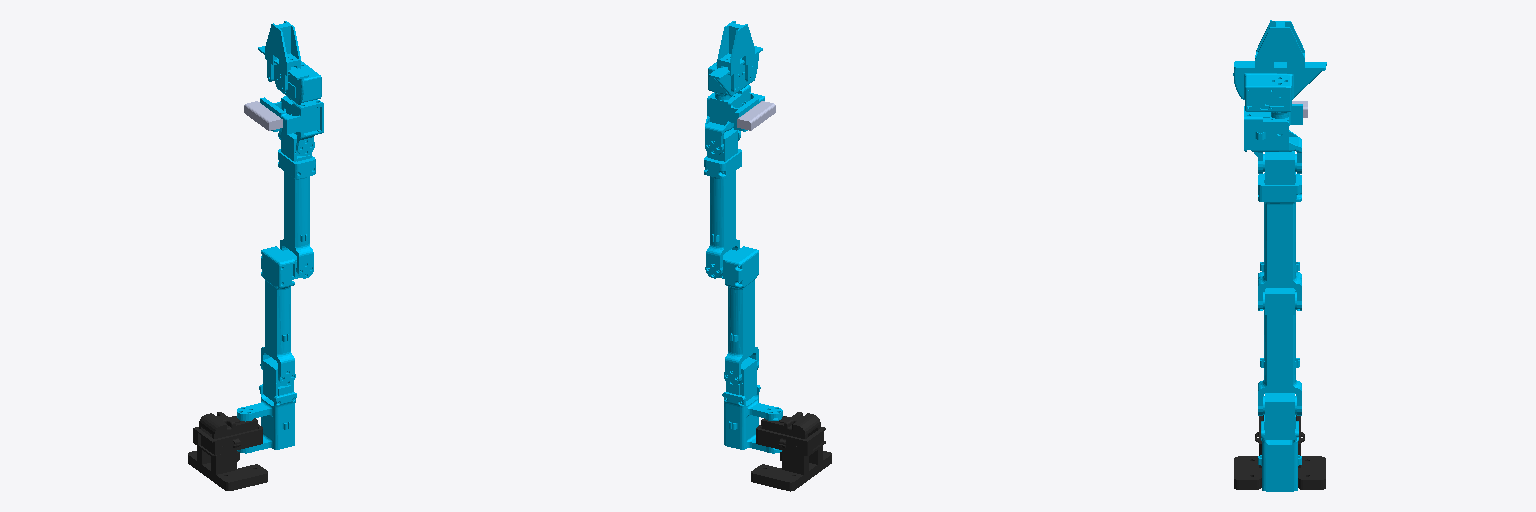
The robot description file, URDF, robot "star_arm":
<?xml version="1.0" encoding="utf-8"?>
<!-- This URDF was automatically created by SolidWorks to URDF Exporter! Originally created by Stephen Brawner (brawner@gmail.com) 
     Commit Version: 1.6.0-4-g7f85cfe  Build Version: 1.6.7995.38578
     For more information, please see http://wiki.ros.org/sw_urdf_exporter -->
<robot name="star_arm">
  <material name="base_gray">
    <color rgba="0.2 0.2 0.2 1" />
  </material>
  <material name="arm_cyan">
    <color rgba="0.0 0.8 1.0 1" />
  </material>
  <link
    name="base_link">
    <inertial>
      <origin
        xyz="0.0275864586435609 9.16647477805559E-05 0.0324590456139455"
        rpy="0 0 0" />
      <mass
        value="0.144504554281563" />
      <inertia
        ixx="0.000121778576211421"
        ixy="4.84539490144028E-07"
        ixz="1.008250680684E-05"
        iyy="8.91115266351561E-05"
        iyz="-3.49729533338273E-12"
        izz="0.000111457566341753" />
    </inertial>
    <visual>
      <origin
        xyz="0 0 0"
        rpy="0 0 0" />
      <geometry>
        <mesh
          filename="package://star_arm/meshes/base_link.STL" />
      </geometry>
      <material
        name="base_gray">
        <color
          rgba="0.2 0.2 0.2 1" />
      </material>
    </visual>
    <collision>
      <origin
        xyz="0 0 0"
        rpy="0 0 0" />
      <geometry>
        <mesh
          filename="package://star_arm/meshes/base_link.STL" />
      </geometry>
    </collision>
  </link>
  <link
    name="link1">
    <inertial>
      <origin
        xyz="1.3453252855906E-05 0.0413059005151624 -0.0368213823397828"
        rpy="0 0 0" />
      <mass
        value="0.119500015084103" />
      <inertia
        ixx="5.33919609666398E-05"
        ixy="-5.49525330310466E-08"
        ixz="-1.15729775390099E-07"
        iyy="4.7549033361238E-05"
        iyz="1.19946244949578E-06"
        izz="3.30906436971184E-05" />
    </inertial>
    <visual>
      <origin
        xyz="0 0 0"
        rpy="0 0 0" />
      <geometry>
        <mesh
          filename="package://star_arm/meshes/link1.STL" />
      </geometry>
      <material
        name="arm_cyan">
        <color
          rgba="0.0 0.8 1.0 1" />
      </material>
    </visual>
    <collision>
      <origin
        xyz="0 0 0"
        rpy="0 0 0" />
      <geometry>
        <mesh
          filename="package://star_arm/meshes/link1.STL" />
      </geometry>
    </collision>
  </link>
  <joint
    name="joint1"
    type="revolute">
    <origin
      xyz="0.0552 0 0.03275"
      rpy="-3.1416 0 1.5708" />
    <parent
      link="base_link" />
    <child
      link="link1" />
    <axis
      xyz="0 0 -1" />
    <limit
      lower="-1.60"
      upper="1.60"
      effort="100"
      velocity="1" />
  </joint>
  <link
    name="link2">
    <inertial>
      <origin
        xyz="-0.00335921384804032 0.0945816679704448 0.0174068208732643"
        rpy="0 0 0" />
      <mass
        value="0.130914564240808" />
      <inertia
        ixx="0.00018510366056365"
        ixy="-2.57165620985463E-06"
        ixz="1.62336294405518E-07"
        iyy="2.69950008420773E-05"
        iyz="-8.45473246439525E-07"
        izz="0.00017706366922862" />
    </inertial>
    <visual>
      <origin
        xyz="0 0 0"
        rpy="0 0 0" />
      <geometry>
        <mesh
          filename="package://star_arm/meshes/link2.STL" />
      </geometry>
      <material
        name="arm_cyan">
        <color
          rgba="0.0 0.8 1.0 1" />
      </material>
    </visual>
    <collision>
      <origin
        xyz="0 0 0"
        rpy="0 0 0" />
      <geometry>
        <mesh
          filename="package://star_arm/meshes/link2.STL" />
      </geometry>
    </collision>
  </link>
  <joint
    name="joint2"
    type="revolute">
    <origin
      xyz="-0.01725 0.045 -0.087"
      rpy="-1.5708 0 -1.5708" />
    <parent
      link="link1" />
    <child
      link="link2" />
    <axis
      xyz="0 0 1" />
    <limit
      lower="-1.75"
      upper="1.75"
      effort="100"
      velocity="1" />
  </joint>
  <link
    name="link3">
    <inertial>
      <origin
        xyz="1.16788708870719E-05 0.0977016302020788 0.0172734290636942"
        rpy="0 0 0" />
      <mass
        value="0.130589042948412" />
      <inertia
        ixx="0.000172650242860473"
        ixy="1.25703414938938E-07"
        ixz="-3.67980725389453E-11"
        iyy="2.27248998780146E-05"
        iyz="1.80392268951775E-07"
        izz="0.000161491051520502" />
    </inertial>
    <visual>
      <origin
        xyz="0 0 0"
        rpy="0 0 0" />
      <geometry>
        <mesh
          filename="package://star_arm/meshes/link3.STL" />
      </geometry>
      <material
        name="arm_cyan">
        <color
          rgba="0.0 0.8 1.0 1" />
      </material>
    </visual>
    <collision>
      <origin
        xyz="0 0 0"
        rpy="0 0 0" />
      <geometry>
        <mesh
          filename="package://star_arm/meshes/link3.STL" />
      </geometry>
    </collision>
  </link>
  <joint
    name="joint3"
    type="revolute">
    <origin
      xyz="-0.026 0.1375 0"
      rpy="0 0 0" />
    <parent
      link="link2" />
    <child
      link="link3" />
    <axis
      xyz="0 0 1" />
    <limit
      lower="0"
      upper="3.00"
      effort="100"
      velocity="1" />
  </joint>
  <link
    name="link4">
    <inertial>
      <origin
        xyz="0.00631217454440636 0.0365391714692126 0.00623188114836135"
        rpy="0 0 0" />
      <mass
        value="0.0832632385047992" />
      <inertia
        ixx="3.70113589000222E-05"
        ixy="-3.43933921249897E-06"
        ixz="-1.08273760441399E-06"
        iyy="3.94373023103334E-05"
        iyz="3.88851296896288E-06"
        izz="3.23648386666315E-05" />
    </inertial>
    <visual>
      <origin
        xyz="0 0 0"
        rpy="0 0 0" />
      <geometry>
        <mesh
          filename="package://star_arm/meshes/link4.STL" />
      </geometry>
      <material
        name="arm_cyan">
        <color
          rgba="0.0 0.8 1.0 1" />
      </material>
    </visual>
    <collision>
      <origin
        xyz="0 0 0"
        rpy="0 0 0" />
      <geometry>
        <mesh
          filename="package://star_arm/meshes/link4.STL" />
      </geometry>
    </collision>
  </link>
  <joint
    name="joint4"
    type="revolute">
    <origin
      xyz="0 0.165 0"
      rpy="0 0 0" />
    <parent
      link="link3" />
    <child
      link="link4" />
    <axis
      xyz="0 0 1" />
    <limit
      lower="-1.75"
      upper="1.75"
      effort="100"
      velocity="1" />
  </joint>
  <link
    name="camera_link">
    <inertial>
      <origin
        xyz="-6.20027086588593E-05 1.72929014566171E-16 0.00960747464873753"
        rpy="0 0 0" />
      <mass
        value="0.0145747300074259" />
      <inertia
        ixx="4.81346494695206E-06"
        ixy="-7.18281463877342E-22"
        ixz="3.36765718104557E-09"
        iyy="7.1150146490885E-07"
        iyz="-8.75094153204774E-22"
        izz="4.43946569877743E-06" />
    </inertial>
    <visual>
      <origin
        xyz="0 0 0"
        rpy="0 0 0" />
      <geometry>
        <mesh
          filename="package://star_arm/meshes/camera_link.STL" />
      </geometry>
      <material
        name="camera_gray">
        <color
          rgba="0.792156862745098 0.819607843137255 0.933333333333333 1" />
      </material>
    </visual>
    <collision>
      <origin
        xyz="0 0 0"
        rpy="0 0 0" />
      <geometry>
        <mesh
          filename="package://star_arm/meshes/camera_link.STL" />
      </geometry>
    </collision>
  </link>
  <joint
    name="camera_joint"
    type="fixed">
    <origin
      xyz="0.0365 0.043 0.01725"
      rpy="1.5708 0 1.5708" />
    <parent
      link="link4" />
    <child
      link="camera_link" />
    <axis
      xyz="0 0 0" />
  </joint>
  <link
    name="link5">
    <inertial>
      <origin
        xyz="0.010232247136776 -0.00615665727623538 0.0263472886543328"
        rpy="0 0 0" />
      <mass
        value="0.0669587495744025" />
      <inertia
        ixx="1.58532114098523E-05"
        ixy="-7.47430039947888E-07"
        ixz="9.96514914296277E-07"
        iyy="3.05212909606378E-05"
        iyz="2.34382462901691E-06"
        izz="2.89349312315722E-05" />
    </inertial>
    <visual>
      <origin
        xyz="0 0 0"
        rpy="0 0 0" />
      <geometry>
        <mesh
          filename="package://star_arm/meshes/link5.STL" />
      </geometry>
      <material
        name="arm_cyan">
        <color
          rgba="0.0 0.8 1.0 1" />
      </material>
    </visual>
    <collision>
      <origin
        xyz="0 0 0"
        rpy="0 0 0" />
      <geometry>
        <mesh
          filename="package://star_arm/meshes/link5.STL" />
      </geometry>
    </collision>
  </link>
  <joint
    name="joint5"
    type="revolute">
    <origin
      xyz="0 0.05825 0.01725"
      rpy="-1.5708 1.5467 0.00" />
    <parent
      link="link4" />
    <child
      link="link5" />
    <axis
      xyz="0 0 -1" />
    <limit
      lower="-2"
      upper="2"
      effort="100"
      velocity="1" />
  </joint>
  <link
    name="end_link1">
    <inertial>
      <origin
        xyz="-0.011159382035468 -0.000634504591832008 0.0152747711052601"
        rpy="0 0 0" />
      <mass
        value="0.0120359501834581" />
      <inertia
        ixx="2.13160420215434E-06"
        ixy="-7.81459007033329E-11"
        ixz="-2.68248085654803E-07"
        iyy="2.06133033844492E-06"
        iyz="-1.20710833297542E-07"
        izz="1.08266456012266E-06" />
    </inertial>
    <visual>
      <origin
        xyz="0 0 0"
        rpy="0 0 0" />
      <geometry>
        <mesh
          filename="package://star_arm/meshes/end_link1.STL" />
      </geometry>
      <material
        name="arm_cyan">
        <color
          rgba="0.0 0.8 1.0 1" />
      </material>
    </visual>
    <collision>
      <origin
        xyz="0 0 0"
        rpy="0 0 0" />
      <geometry>
        <mesh
          filename="package://star_arm/meshes/end_link1.STL" />
      </geometry>
    </collision>
  </link>
  <joint
    name="end_joint1"
    type="prismatic">
    <origin
      xyz="0 -0.0185 0.051"
      rpy="0 0 0" />
    <parent
      link="link5" />
    <child
      link="end_link1" />
    <axis
      xyz="-1 0 0" />
    <limit
      lower="0"
      upper="0.02"
      effort="100"
      velocity="1" />
  </joint>
  <link
    name="end_link2">
    <inertial>
      <origin
        xyz="0.0111593820354694 -0.000632933870844066 0.0152747711052602"
        rpy="0 0 0" />
      <mass
        value="0.012035950183458" />
      <inertia
        ixx="2.13160420215434E-06"
        ixy="-7.81459007037075E-11"
        ixz="2.68248085654803E-07"
        iyy="2.06133033844492E-06"
        iyz="-1.20925472467206E-07"
        izz="1.08266456012266E-06" />
    </inertial>
    <visual>
      <origin
        xyz="0 0 0"
        rpy="0 0 0" />
      <geometry>
        <mesh
          filename="package://star_arm/meshes/end_link2.STL" />
      </geometry>
      <material
        name="arm_cyan">
        <color
          rgba="0.0 0.8 1.0 1" />
      </material>
    </visual>
    <collision>
      <origin
        xyz="0 0 0"
        rpy="0 0 0" />
      <geometry>
        <mesh
          filename="package://star_arm/meshes/end_link2.STL" />
      </geometry>
    </collision>
  </link>
  <joint
    name="end_joint2"
    type="prismatic">
    <origin
      xyz="0 -0.0185 0.051"
      rpy="0 0 0" />
    <parent
      link="link5" />
    <child
      link="end_link2" />
    <axis
      xyz="-1 0 0" />
    <limit
      lower="0"
      upper="0.02"
      effort="100"
      velocity="1" />
    <mimic
      joint="end_joint1"
      multiplier="-1"
      offset="0" />
  </joint>
</robot>

--- What the picture shows (computed from the rendered views, not written in the file) ---
3 views of the same robot in one strip: view 1: azimuth 30°, elevation 25°; view 2: azimuth 150°, elevation 25°; view 3: azimuth 270°, elevation 25° (orthographic).
Model star_arm with 9 links and 8 joints (5 revolute, 2 prismatic, 1 fixed), rooted at base_link, posed every joint at zero.
Visible links, largest first — view 1: base_link, link2, link3, link1, link4, link5, end_link2, camera_link; view 2: base_link, link2, link3, link1, link4, end_link1, link5, camera_link, end_link2; view 3: link3, link2, link1, link5, link4, base_link, end_link1, end_link2.
Link boxes in pixels (left/top/right/bottom): base_link: left=188, top=412, right=267, bottom=490; link2: left=260, top=246, right=300, bottom=385; link3: left=278, top=132, right=315, bottom=278; link1: left=237, top=358, right=296, bottom=453; link4: left=260, top=96, right=323, bottom=155; link5: left=258, top=46, right=321, bottom=104; end_link2: left=276, top=24, right=300, bottom=91; camera_link: left=244, top=101, right=282, bottom=130; base_link: left=751, top=412, right=831, bottom=491; link2: left=718, top=246, right=758, bottom=385; link3: left=704, top=128, right=741, bottom=278; link1: left=722, top=358, right=782, bottom=453; link4: left=705, top=85, right=764, bottom=155; end_link1: left=717, top=24, right=742, bottom=91; link5: left=708, top=46, right=762, bottom=100; camera_link: left=737, top=101, right=775, bottom=130; end_link2: left=729, top=21, right=754, bottom=81; link3: left=1258, top=151, right=1301, bottom=310; link2: left=1258, top=272, right=1301, bottom=415; link1: left=1258, top=393, right=1301, bottom=491; link5: left=1233, top=61, right=1326, bottom=118; link4: left=1244, top=104, right=1302, bottom=173; base_link: left=1234, top=415, right=1325, bottom=489; end_link1: left=1280, top=21, right=1304, bottom=73; end_link2: left=1255, top=20, right=1280, bottom=72.
Size in the robot's own frame: 0.1525 by 0.1011 by 0.5797 metres.
9 mesh visuals loaded from 9 distinct referenced files (9 binary STL).
